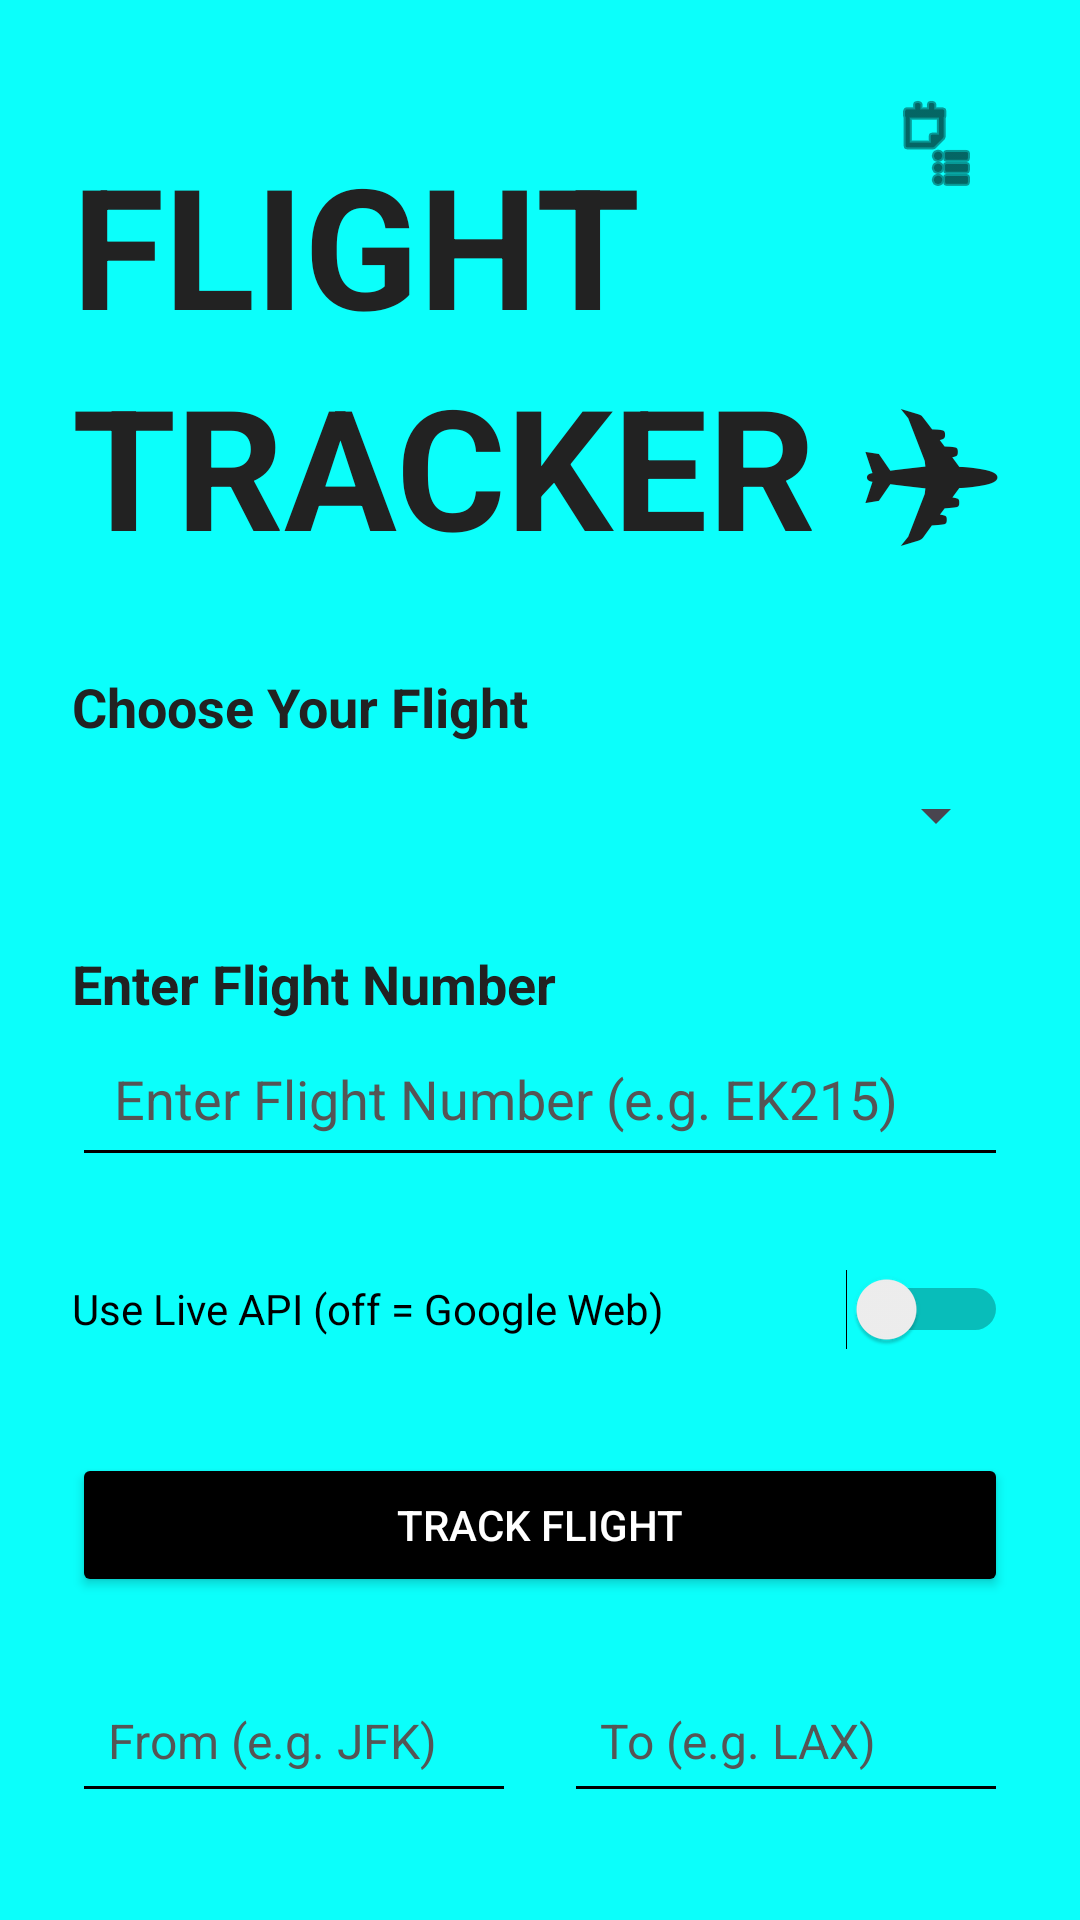

Locate icon controls on the screen. Image size 1080 x 1920, boxes as bbox(x1, y1, x2, y2).
agenda: bbox(903, 101, 970, 186)
